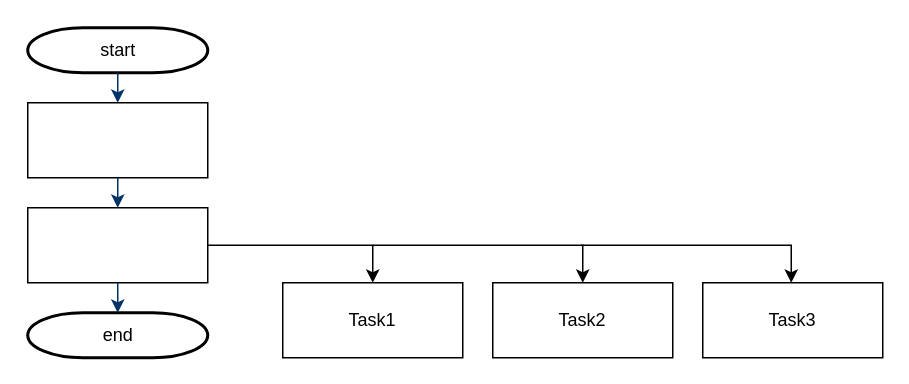
The diagram is 909 pixels wide and 384 high, and some of its shapes have lost their labels. The shapes that lost their labels are listed below. From the top down, each one's centre as x and y in pixels, then its label:
At pixel 117 139: "Initialization : Board, timer, etc.".
At pixel 117 244: "Initialization : task, queue, semaphore.".
